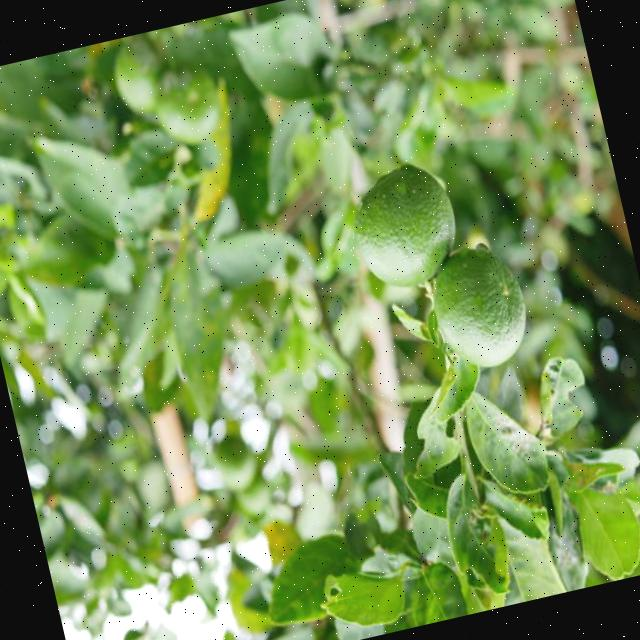Unripe: (340, 154, 467, 306), (420, 239, 539, 379)
